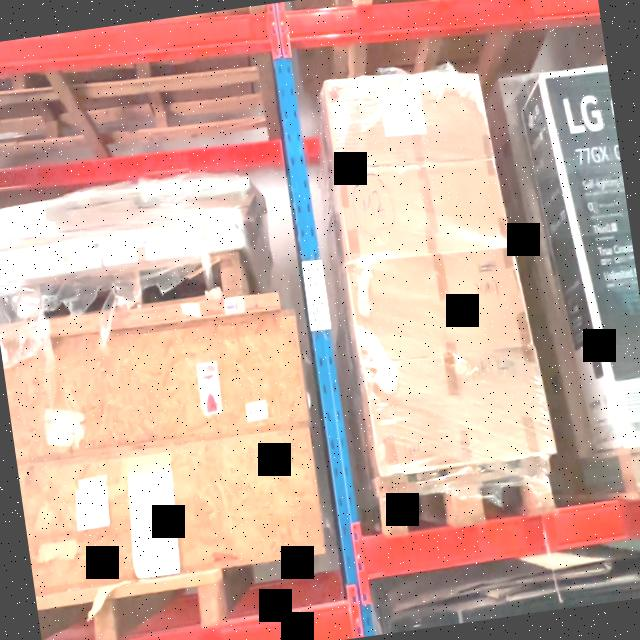box: (360, 348, 552, 476), (346, 249, 526, 366), (338, 164, 506, 262), (326, 75, 490, 172)
